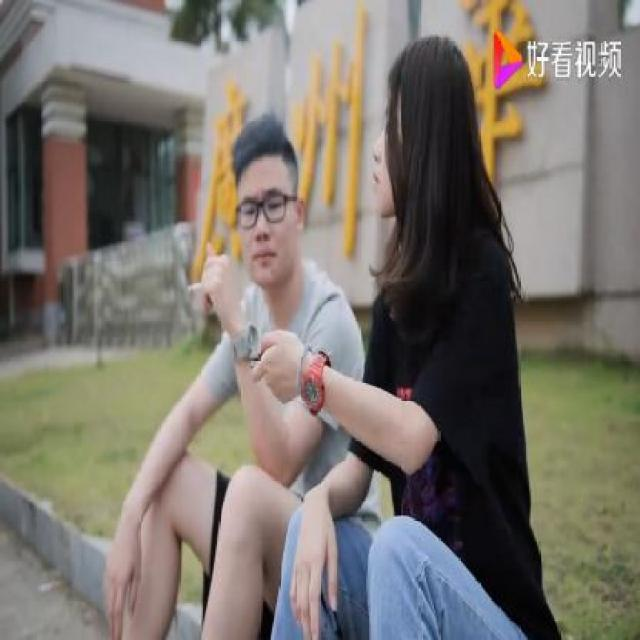smoke: (182, 272, 209, 300)
